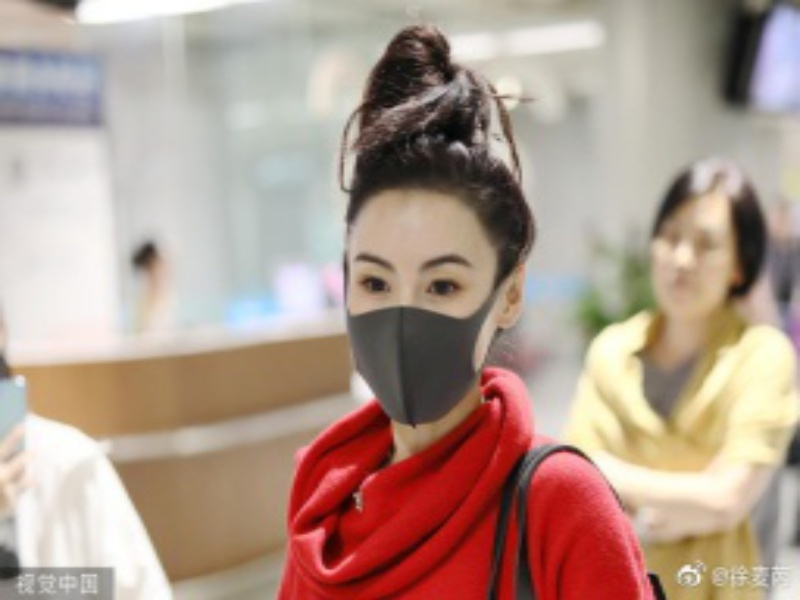ManaoArotava: (301, 60, 518, 443)
TsisyArotava: (644, 162, 761, 349)
